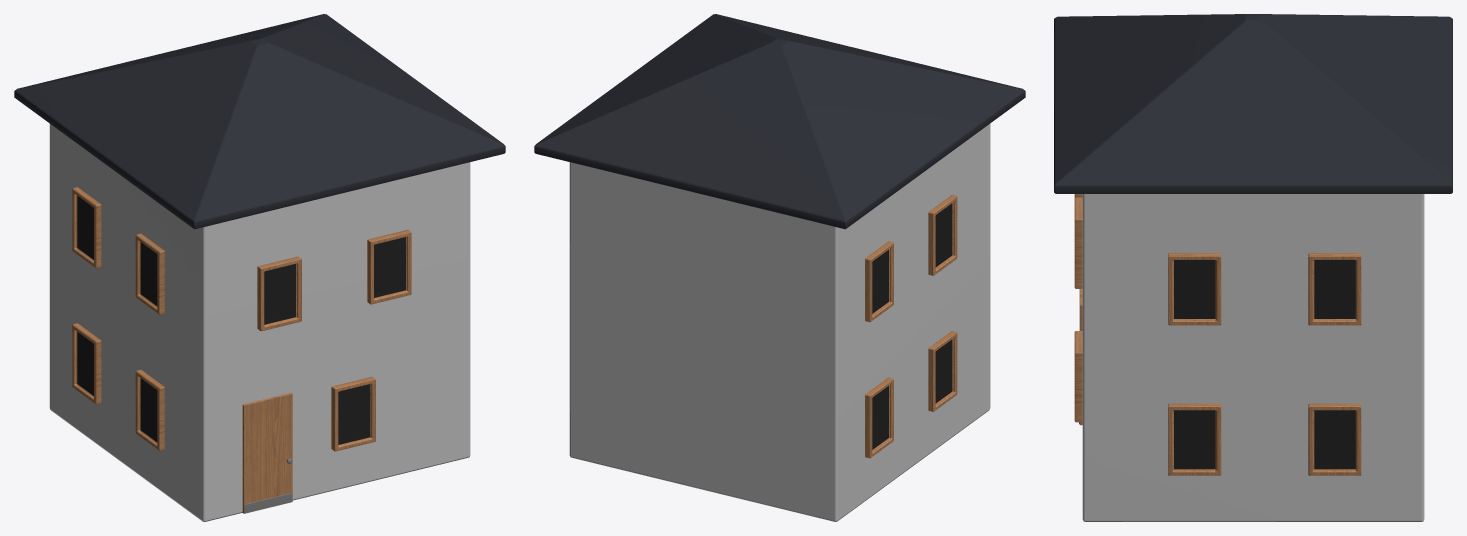
File: SM_building_background_04.fbx
3 views of the same model, side by side, from view 1: azimuth 30°, elevation 25°; view 2: azimuth 150°, elevation 25°; view 3: azimuth 270°, elevation 25° (orthographic). The views are drawn at different scales.
Parts seen in each view (by area): view 1: building_background02; view 2: building_background02; view 3: building_background02.
Boxes of the visible parts, x1=… form: building_background02: x1=14, y1=14, x2=505, y2=521; building_background02: x1=534, y1=14, x2=1025, y2=521; building_background02: x1=1054, y1=14, x2=1452, y2=521.
Size of the model in its own units: 256 by 307 by 256.
